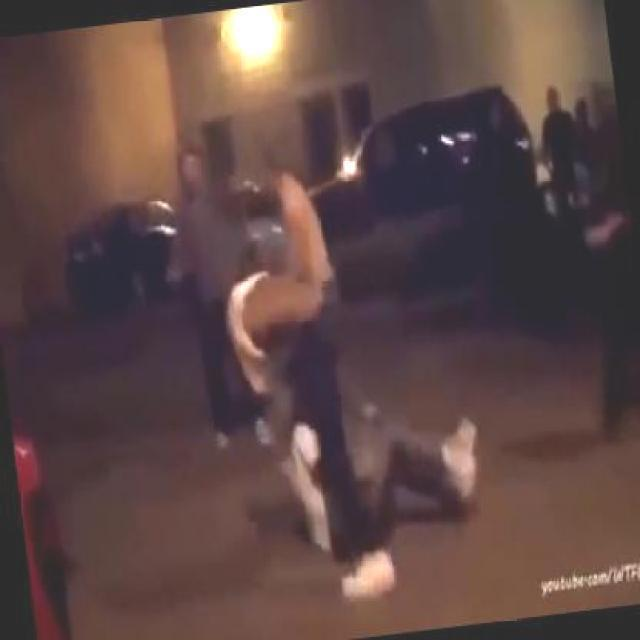fight: (219, 212, 476, 602)
